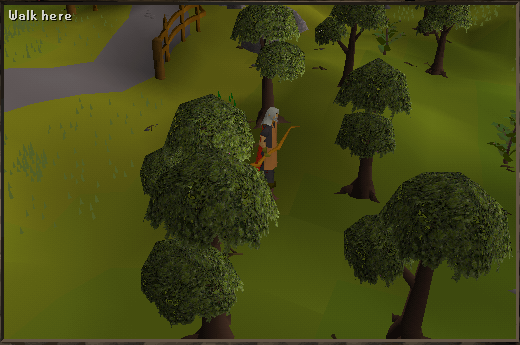Tree: (355, 207, 452, 344), (335, 72, 401, 193), (238, 0, 289, 116), (319, 0, 370, 68), (422, 0, 457, 71)
